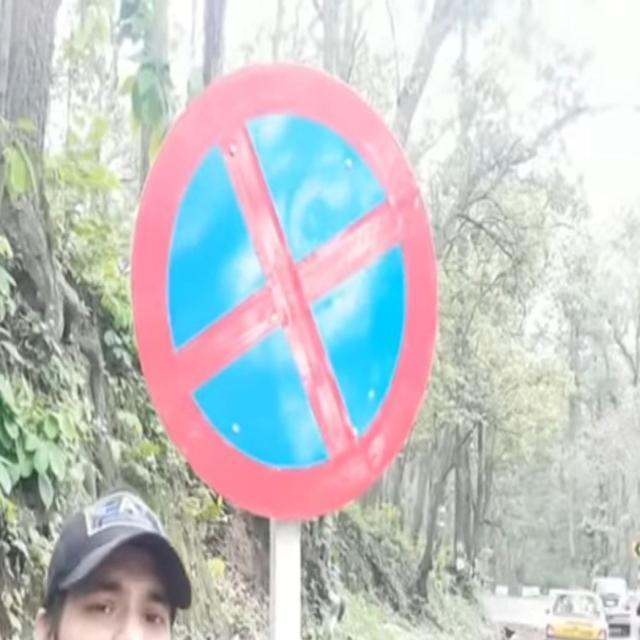no stopping or standing: (129, 60, 440, 522)
